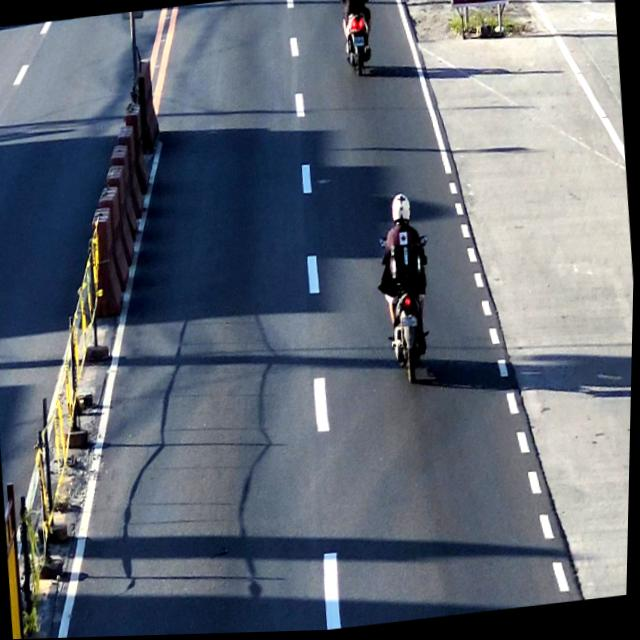Motorcycle: (377, 197, 437, 387), (340, 0, 376, 81)
